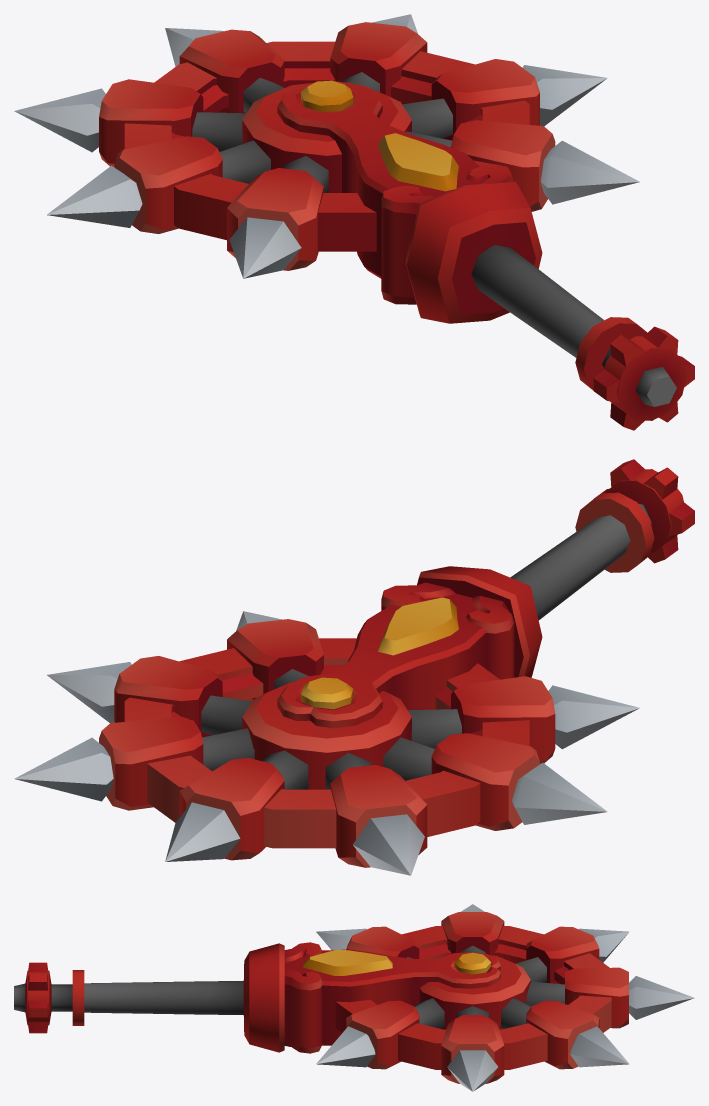
File: Melee_WheelOfPain.fbx
3 views of the same model, one above another, from view 1: azimuth 30°, elevation 25°; view 2: azimuth 150°, elevation 25°; view 3: azimuth 270°, elevation 25° (orthographic). The views are drawn at different scales.
Visible parts, largest first — view 1: Melee_WheelOfPain; view 2: Melee_WheelOfPain; view 3: Melee_WheelOfPain.
Part boxes in pixels (box(x1,y1,x2,y2)): Melee_WheelOfPain: box(14, 14, 694, 430); Melee_WheelOfPain: box(14, 459, 694, 875); Melee_WheelOfPain: box(14, 904, 694, 1091).
Size of the model in its own units: 0.9071 by 0.199 by 1.39.
